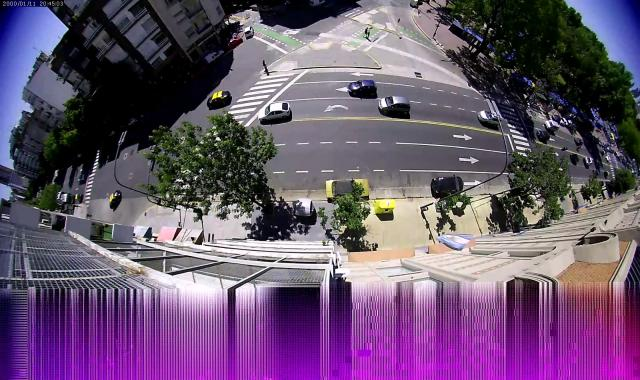bus: (61, 193, 74, 204), (56, 191, 64, 200)
car: (326, 180, 370, 198), (258, 102, 291, 122), (378, 96, 411, 115), (432, 176, 464, 195), (348, 80, 377, 96), (207, 91, 230, 109), (478, 110, 501, 127), (205, 50, 224, 65), (110, 190, 122, 209), (227, 37, 243, 50), (544, 120, 560, 131), (536, 130, 550, 140), (310, 0, 325, 9), (244, 26, 253, 39), (570, 153, 579, 163), (584, 157, 592, 166), (552, 114, 561, 121), (574, 138, 583, 145), (560, 118, 568, 125), (75, 194, 83, 200), (78, 174, 84, 181), (605, 156, 611, 162), (567, 121, 572, 128), (600, 150, 606, 155), (593, 170, 599, 175), (604, 171, 609, 176), (598, 141, 602, 146), (604, 148, 608, 152), (602, 144, 605, 146)
